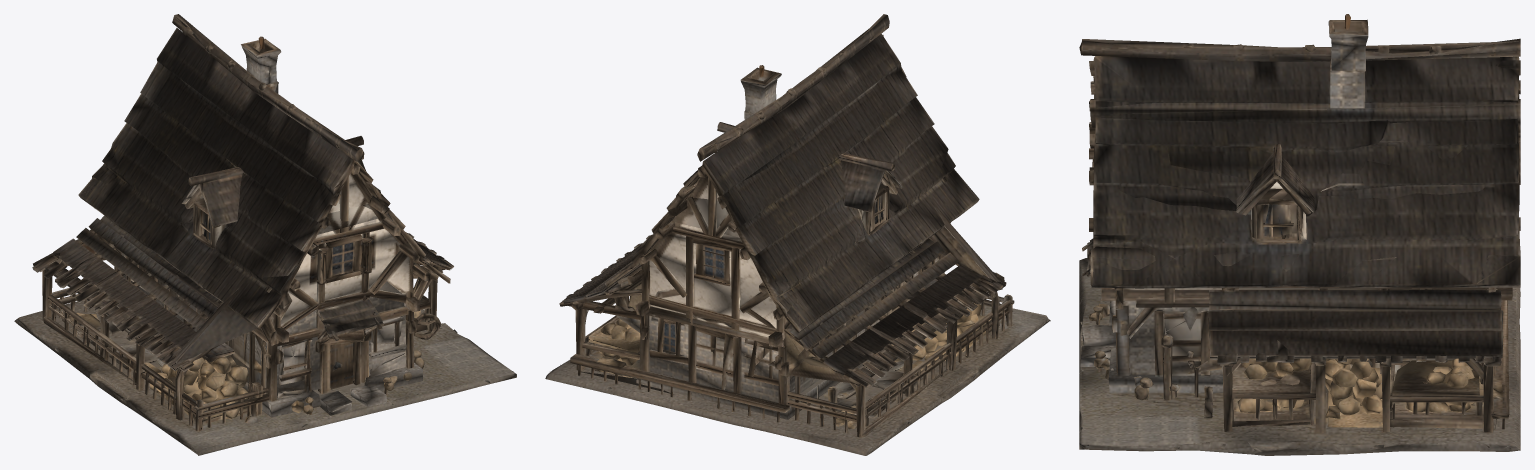
The model's file is Stables.glb.
3 views of the same model, side by side, from view 1: azimuth 30°, elevation 25°; view 2: azimuth 150°, elevation 25°; view 3: azimuth 270°, elevation 25° (orthographic). The views are drawn at different scales.
Visible parts, largest first — view 1: Mesh_0.002; view 2: Mesh_0.002; view 3: Mesh_0.002.
Boxes of the visible parts, x1,y1,x2,y2 form: Mesh_0.002: (14,14,516,455); Mesh_0.002: (545,14,1050,455); Mesh_0.002: (1079,14,1520,455).
Size of the model in its own units: 0.1677 by 0.15 by 0.1677.
Materials: 1 (1 with a texture image).
